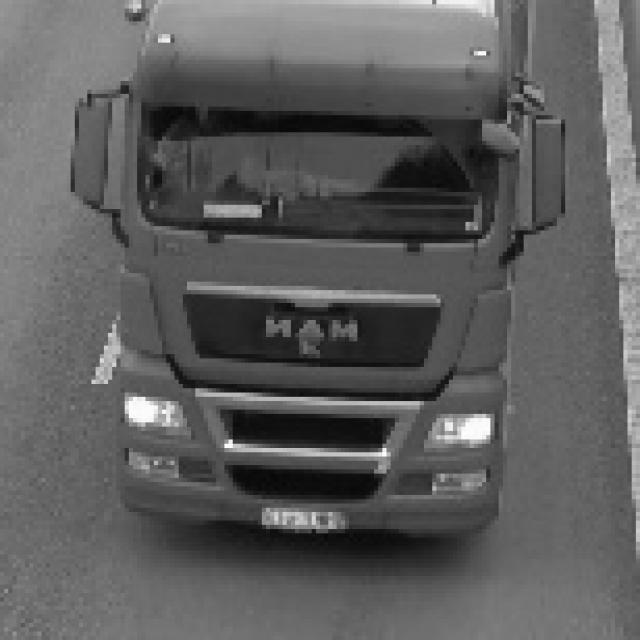truck: (68, 1, 567, 543)
